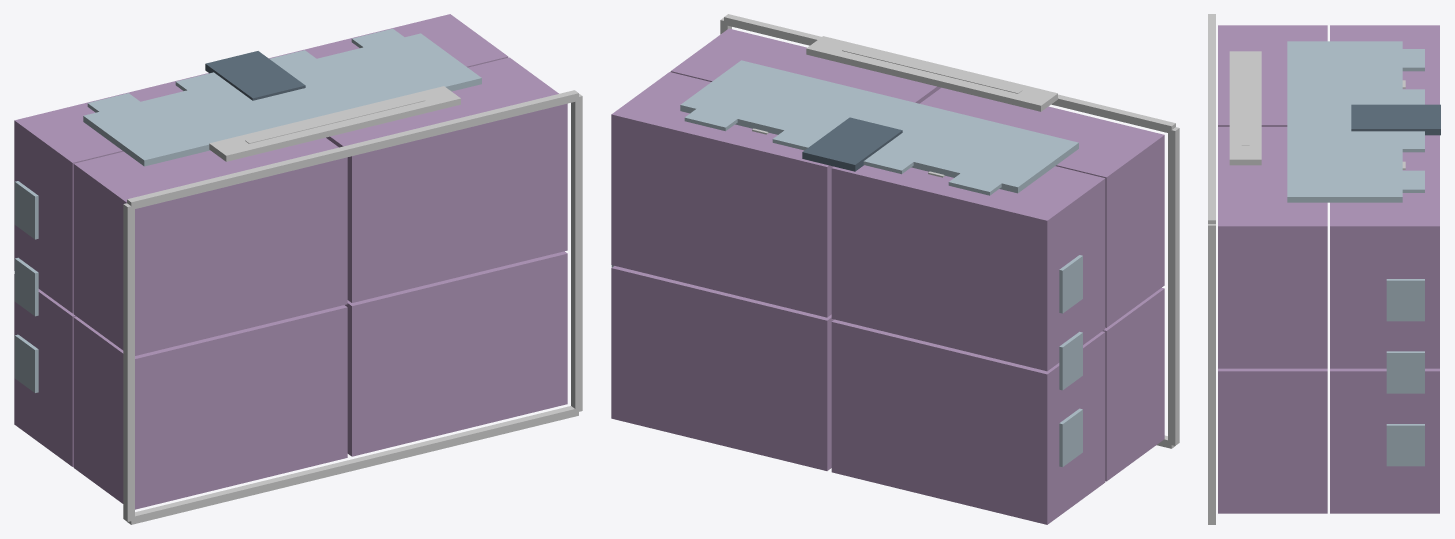
Rendered from building-clothing-store.glb.
The picture shows the model from 3 angles, left to right: view 1: azimuth 30°, elevation 25°; view 2: azimuth 150°, elevation 25°; view 3: azimuth 270°, elevation 25°; orthographic projection. The views are drawn at different scales.
Parts seen in each view (by area): view 1: world; view 2: world; view 3: world.
Part boxes in pixels (box(x1,y1,x2,y2)): world: box(14, 14, 582, 524); world: box(611, 14, 1179, 524); world: box(1208, 14, 1440, 524).
Size of the model in its own units: 15.5 by 10.92 by 7.28.
